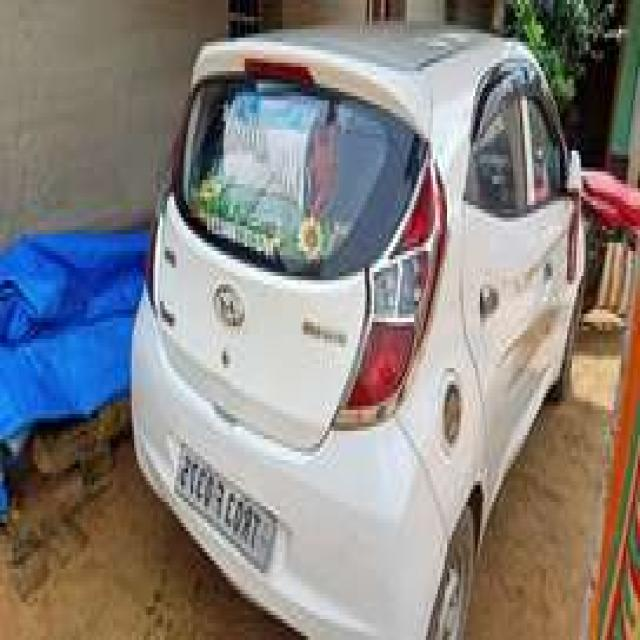license_plate: (168, 435, 281, 581)
